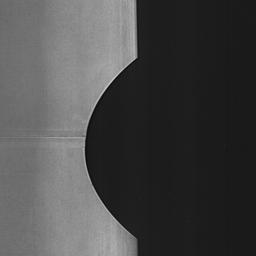Crescent gap: (85, 60, 137, 240)
